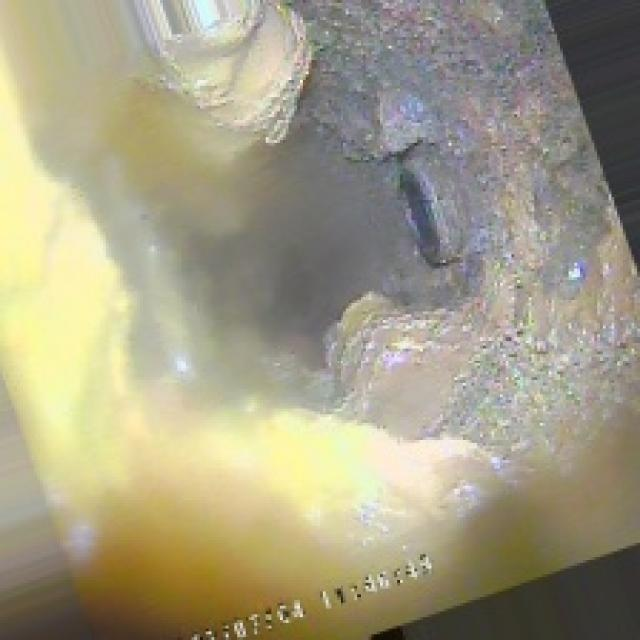encrustation: (334, 34, 597, 449)
ferrule: (386, 152, 463, 268)
